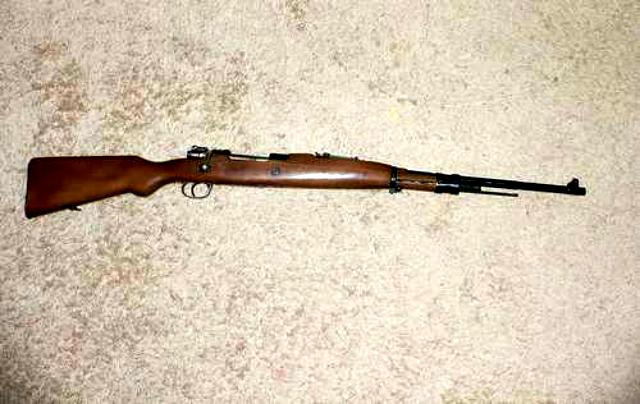rifle: (20, 103, 604, 269)
